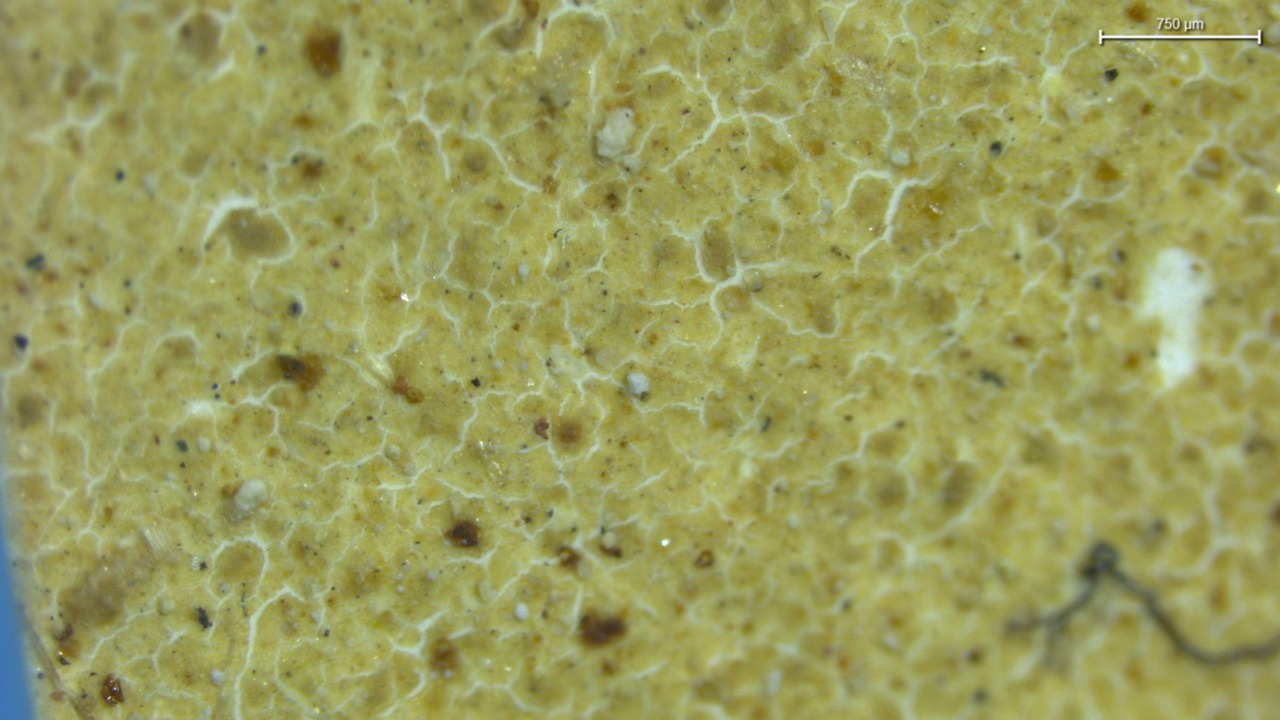microplastic_fragment: (596, 107, 635, 159), (626, 372, 650, 398)
